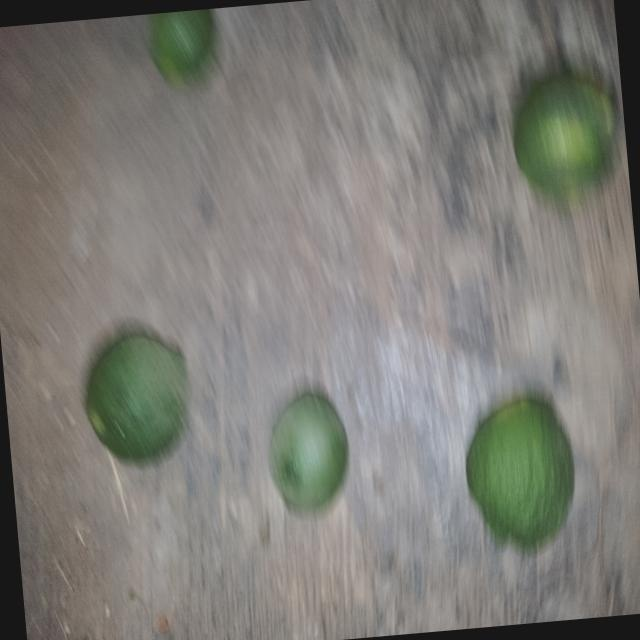agrume: (63, 306, 204, 491), (451, 376, 589, 560), (501, 56, 622, 227), (245, 374, 355, 534)
